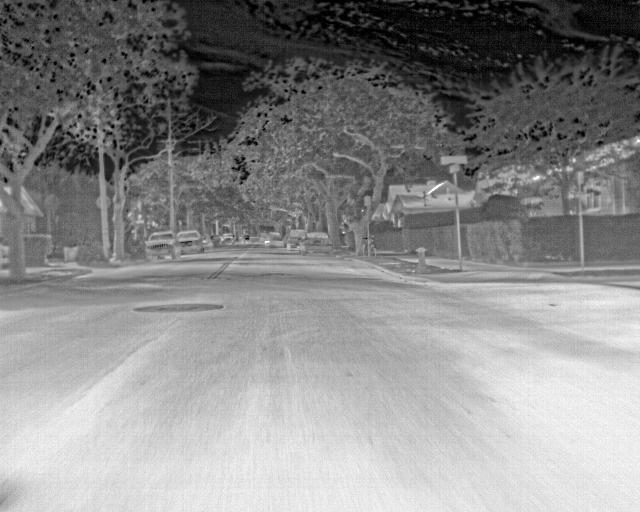bicycle: (361, 235, 379, 257)
car: (143, 230, 177, 261), (303, 233, 334, 256), (177, 228, 204, 253), (284, 229, 305, 249), (266, 230, 284, 247), (200, 232, 214, 251), (221, 234, 236, 248)
